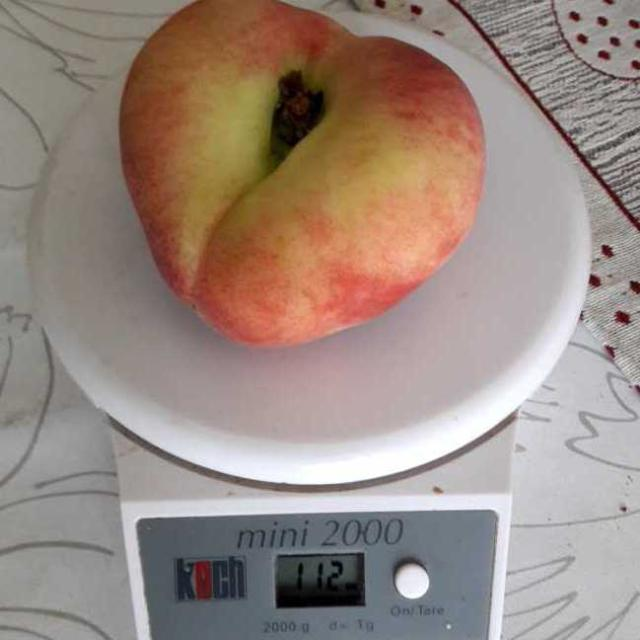peach: (125, 13, 482, 333)
